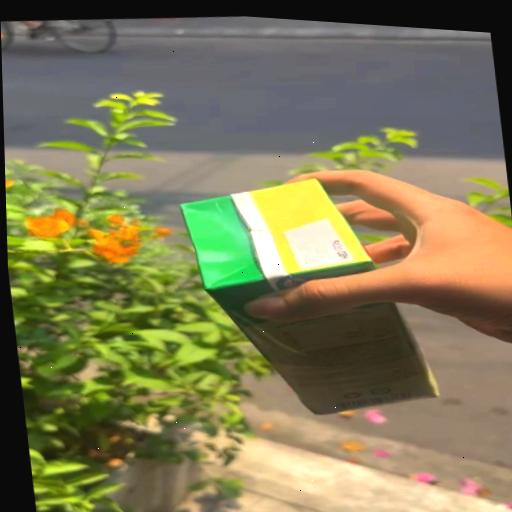ly_giay: (181, 179, 439, 414)
